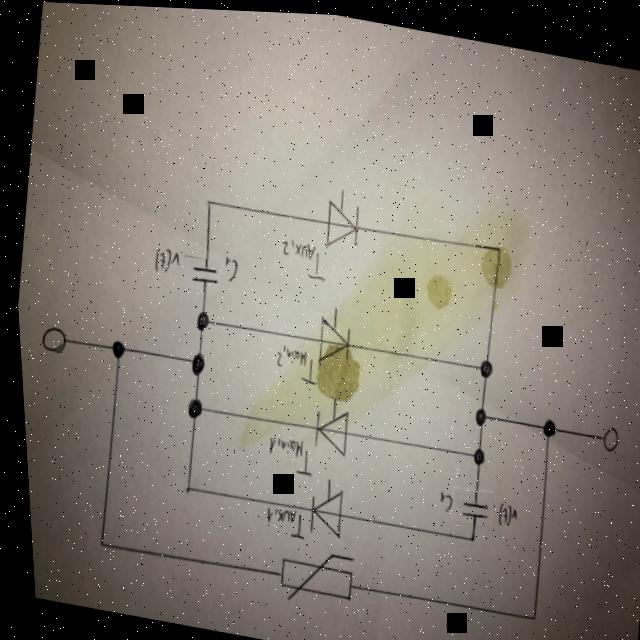capacitor: (452, 493, 485, 519), (184, 260, 217, 285)
junction: (184, 348, 203, 377), (180, 394, 199, 419), (189, 307, 207, 332), (104, 338, 123, 360), (472, 353, 490, 376), (535, 412, 553, 435), (465, 441, 482, 464), (467, 402, 483, 424), (460, 528, 470, 542), (178, 482, 186, 494), (203, 195, 210, 207), (522, 609, 530, 619), (91, 539, 99, 548), (492, 240, 499, 250)
terminal: (33, 324, 64, 356), (591, 418, 616, 449)
text: (272, 234, 328, 281), (258, 431, 311, 475), (267, 341, 318, 385), (256, 503, 302, 539), (148, 243, 180, 275), (489, 495, 514, 525), (217, 253, 238, 282), (430, 485, 448, 510)
thyristor: (316, 193, 362, 252), (297, 480, 342, 539), (303, 400, 348, 457), (308, 310, 352, 367)
